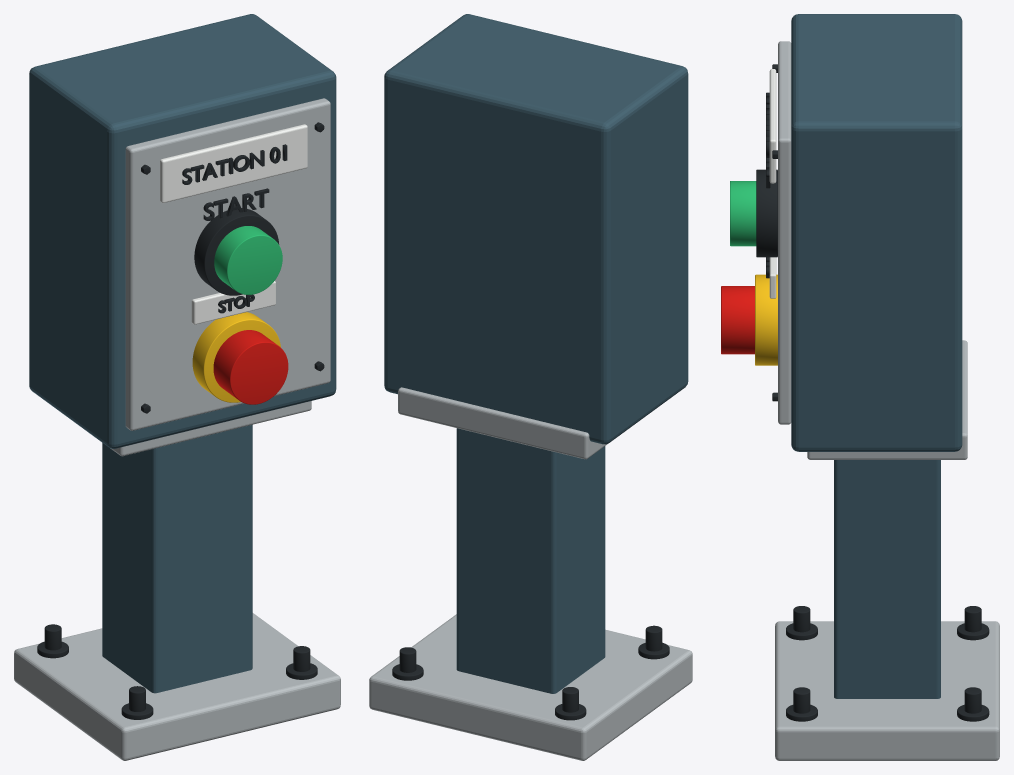
File: operator_pushbutton_station.glb
The picture shows the model from 3 angles, left to right: view 1: azimuth 30°, elevation 25°; view 2: azimuth 150°, elevation 25°; view 3: azimuth 270°, elevation 25°; orthographic projection. The views are drawn at different scales.
Visible parts, largest first — view 1: ENCLOSURE_body, ENCLOSURE_door, PEDESTAL_post, PEDESTAL_foot, NAMEPLATE, KIN_estop, KIN_pushbutton, ESTOP_bezel, BUTTON_bezel, PEDESTAL_mounting_flange, ESTOP_nameplate, NAMEPLATE_text (+1 smaller); view 2: ENCLOSURE_body, PEDESTAL_post, PEDESTAL_foot, PEDESTAL_mounting_flange; view 3: ENCLOSURE_body, PEDESTAL_post, PEDESTAL_foot, ENCLOSURE_door, KIN_estop, PEDESTAL_mounting_flange, ESTOP_bezel, BUTTON_bezel, KIN_pushbutton, NAMEPLATE.
Part boxes in pixels (x1,y1,x2,y2): ENCLOSURE_body: [29, 14, 336, 448]; ENCLOSURE_door: [125, 98, 330, 430]; PEDESTAL_post: [102, 424, 252, 693]; PEDESTAL_foot: [14, 613, 340, 760]; NAMEPLATE: [160, 124, 307, 203]; KIN_estop: [213, 330, 288, 404]; KIN_pushbutton: [214, 226, 282, 294]; ESTOP_bezel: [192, 312, 280, 402]; BUTTON_bezel: [194, 208, 279, 295]; PEDESTAL_mounting_flange: [110, 401, 311, 456]; ESTOP_nameplate: [191, 281, 275, 324]; NAMEPLATE_text: [182, 144, 287, 184]; ENCLOSURE_body: [384, 14, 688, 444]; PEDESTAL_post: [456, 428, 605, 693]; PEDESTAL_foot: [369, 614, 692, 760]; PEDESTAL_mounting_flange: [398, 387, 607, 459]; ENCLOSURE_body: [791, 14, 962, 451]; PEDESTAL_post: [834, 460, 940, 698]; PEDESTAL_foot: [775, 621, 999, 760]; ENCLOSURE_door: [778, 41, 791, 424]; KIN_estop: [721, 286, 754, 354]; PEDESTAL_mounting_flange: [807, 340, 967, 459]; ESTOP_bezel: [755, 274, 777, 365]; BUTTON_bezel: [756, 169, 777, 257]; KIN_pushbutton: [730, 181, 756, 246]; NAMEPLATE: [769, 69, 776, 183].
Bounding box in the file's own units: 0.5 × 1.32 × 0.521.
